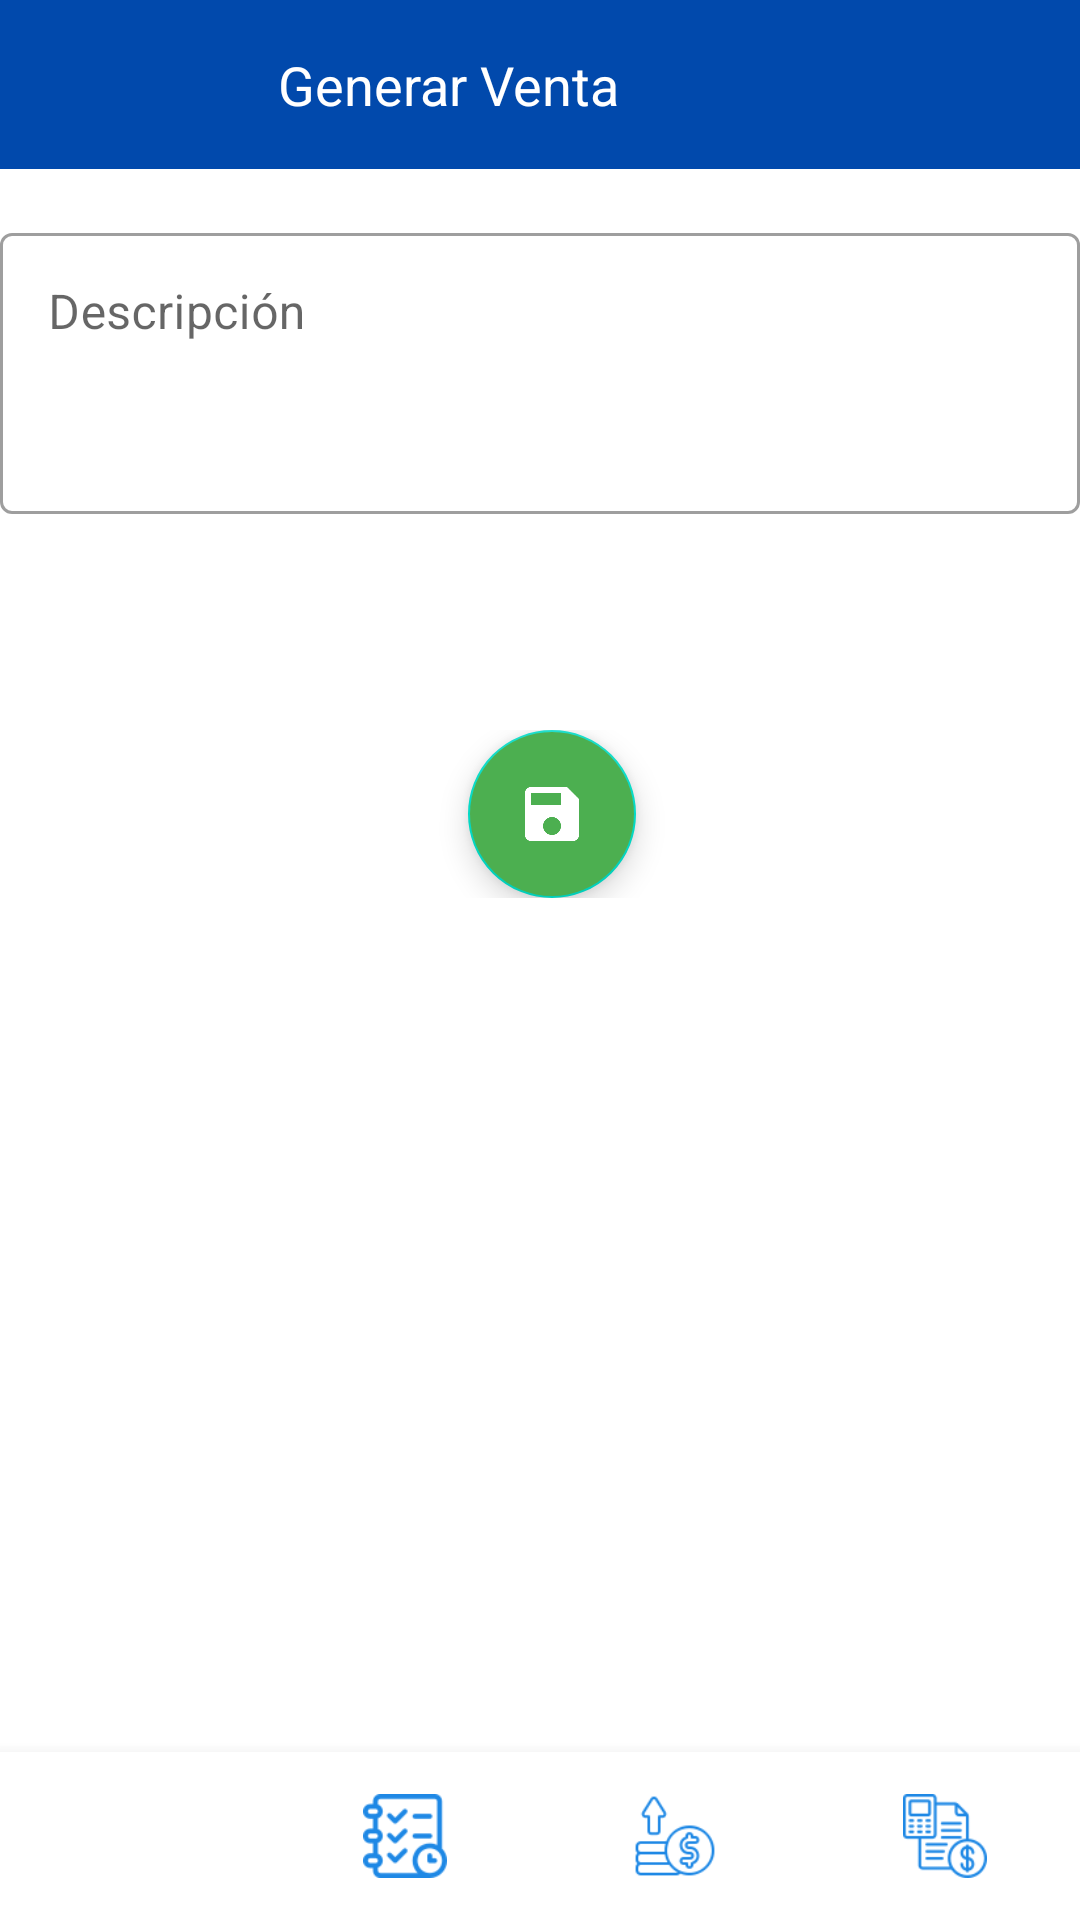

Locate icon controls on the screen. Image size 1080*1920, boxes as (x1, y1, x2, y2).
Guardar Venta: (468, 730, 636, 898)
